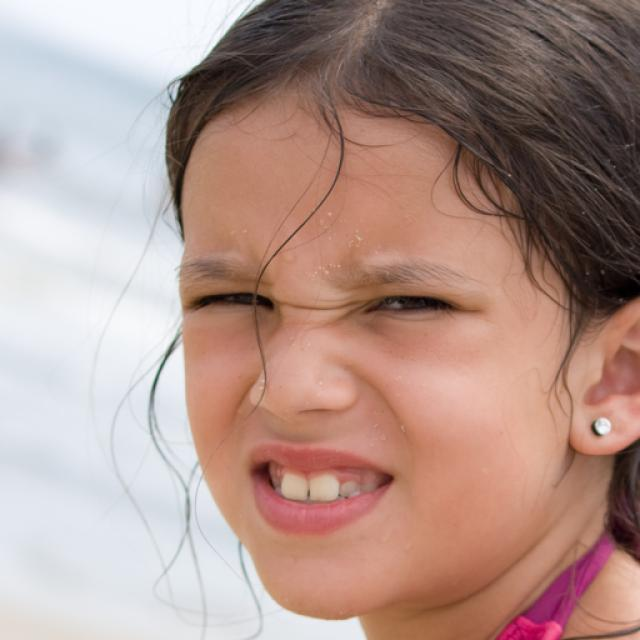disgust: (178, 90, 570, 622)
